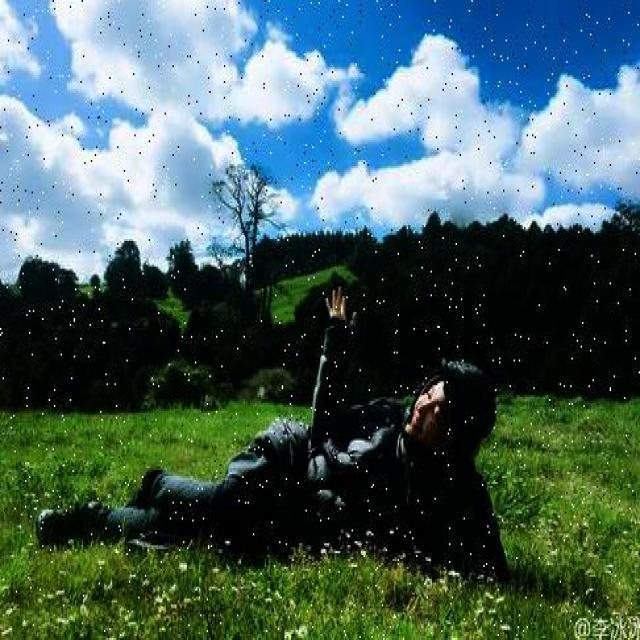fall: (50, 304, 502, 580)
